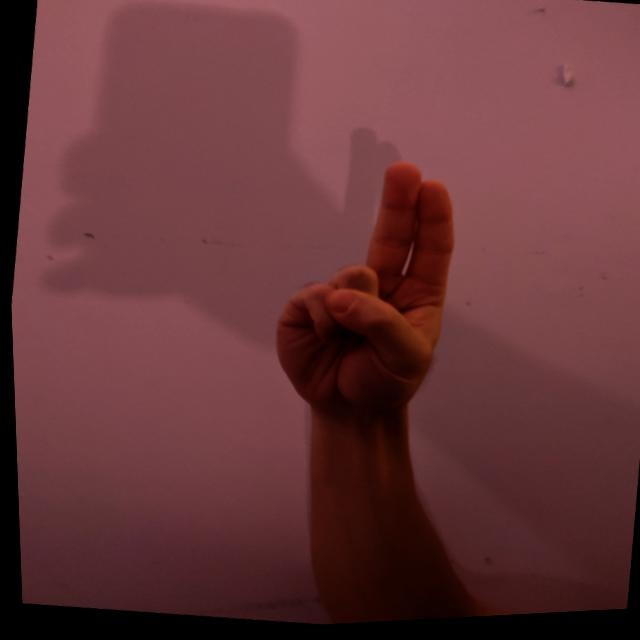U: (253, 144, 477, 437)
